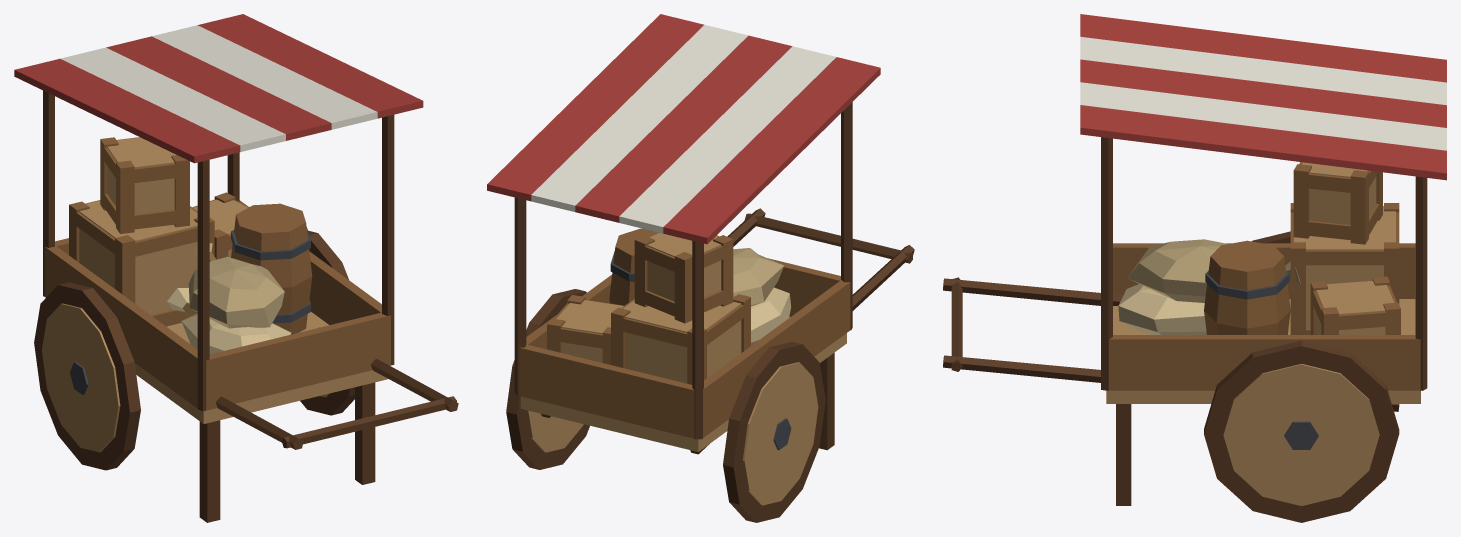
Rendered from cart.glb.
3 views of the same model, side by side, from view 1: azimuth 30°, elevation 25°; view 2: azimuth 150°, elevation 25°; view 3: azimuth 270°, elevation 25° (orthographic). The views are drawn at different scales.
Parts seen in each view (by area): view 1: cart; view 2: cart; view 3: cart.
Part boxes in pixels (box(x1,y1,x2,y2)): cart: box(14, 14, 458, 522); cart: box(487, 14, 914, 522); cart: box(943, 14, 1446, 522).
Size of the model in its own units: 1.32 by 2 by 2.32.
